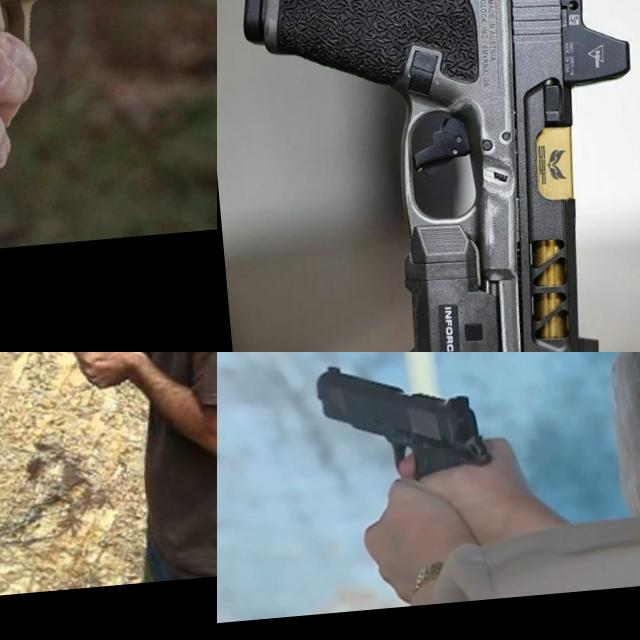handgun: (229, 0, 640, 352), (311, 352, 496, 491), (0, 0, 198, 105), (36, 352, 140, 380)
